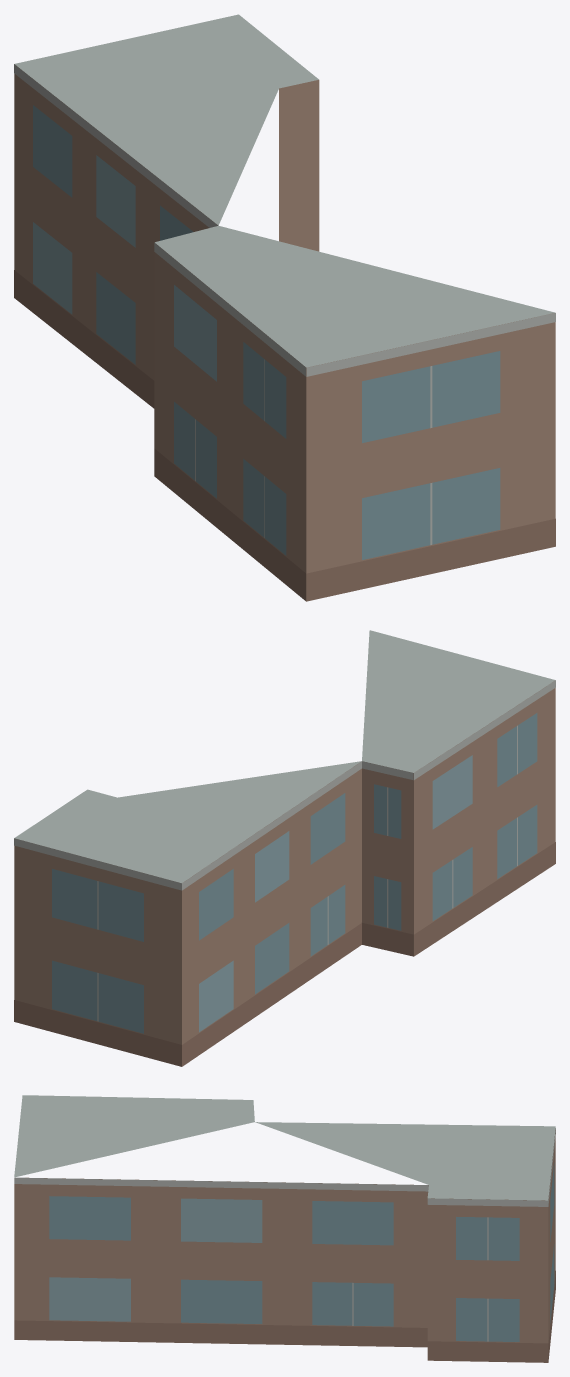
Rendered from survey-upis-32995915.glb.
3 views of the same model, one above another, from view 1: azimuth 30°, elevation 25°; view 2: azimuth 150°, elevation 25°; view 3: azimuth 270°, elevation 25° (orthographic). The views are drawn at different scales.
Visible parts, largest first — view 1: survey-upis-32995915.tmp; view 2: survey-upis-32995915.tmp; view 3: survey-upis-32995915.tmp.
Part boxes in pixels (x1=…): survey-upis-32995915.tmp: x1=14, y1=14, x2=555, y2=601; survey-upis-32995915.tmp: x1=14, y1=630, x2=555, y2=1066; survey-upis-32995915.tmp: x1=14, y1=1095, x2=555, y2=1362.
Bounding box in the file's own units: 8.51 × 6.1 × 18.46.
